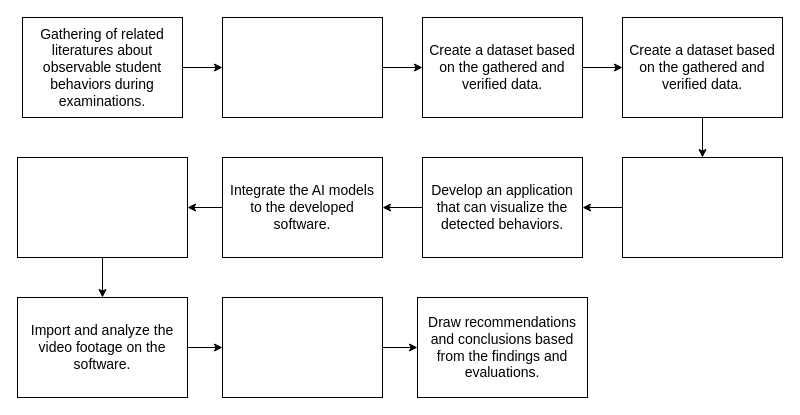
Some shapes in this 800 by 415 pixel diagram are drawn without their labels. Each missing label, with the box of its shape:
Evaluate the system and model's performance.: (222, 296, 382, 398)
Record an examination footage from the chosen participants.: (16, 156, 188, 258)
Train an AI model (action recognition) based on the dataset created.: (622, 156, 782, 258)
Verify the gathered data to a licensed psychologist.: (222, 16, 382, 118)
